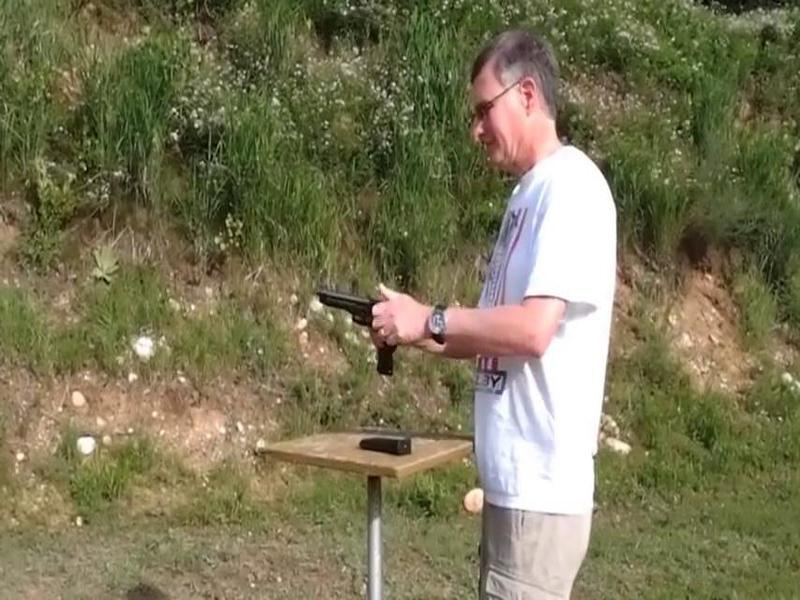Pistola: (304, 283, 413, 366)
